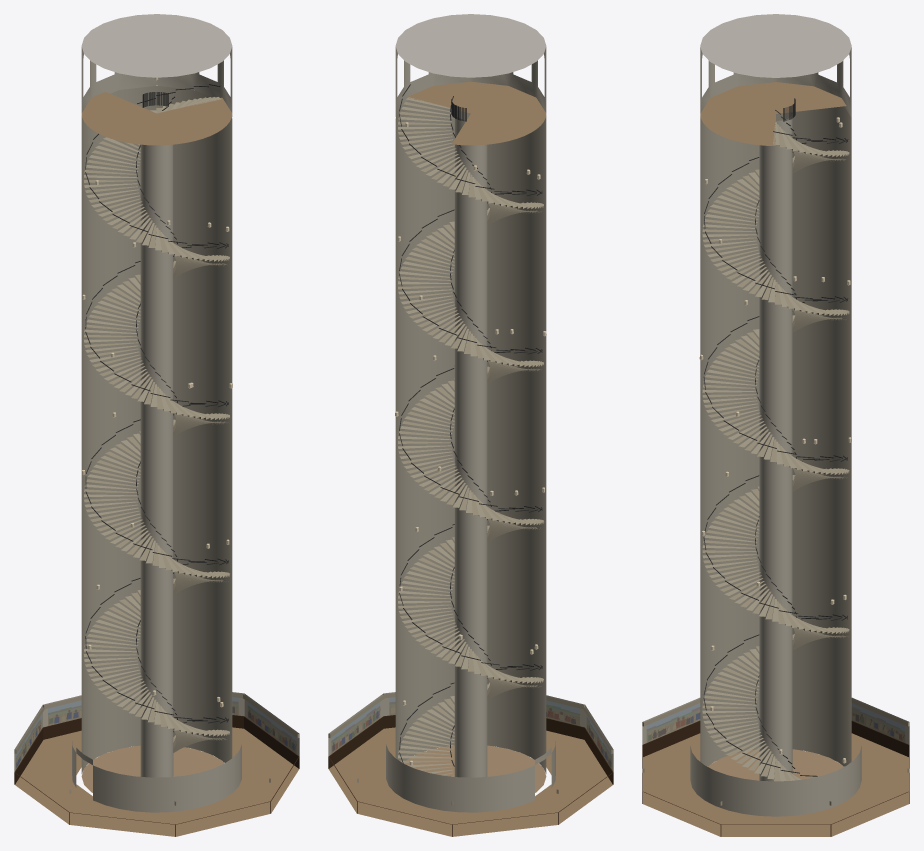
File: coit_int.glb
3 views of the same model, side by side, from view 1: azimuth 30°, elevation 25°; view 2: azimuth 150°, elevation 25°; view 3: azimuth 270°, elevation 25° (orthographic).
Visible parts, largest first — view 1: I_x_plaster, I_concrete, I_tiles, I_metal, I_x_veneer; view 2: I_x_plaster, I_concrete, I_tiles, I_metal, I_x_veneer; view 3: I_x_plaster, I_concrete, I_tiles, I_metal, I_x_veneer.
Boxes of the visible parts, box(x1,y1,x2,y2) form: I_x_plaster: box(14, 14, 299, 812); I_concrete: box(84, 97, 230, 777); I_tiles: box(15, 92, 299, 836); I_metal: box(85, 84, 228, 731); I_x_veneer: box(14, 715, 299, 836); I_x_plaster: box(328, 14, 613, 812); I_concrete: box(398, 97, 544, 777); I_tiles: box(328, 81, 612, 836); I_metal: box(399, 84, 542, 766); I_x_veneer: box(328, 715, 613, 836); I_x_plaster: box(642, 14, 909, 816); I_concrete: box(702, 114, 849, 781); I_tiles: box(643, 82, 908, 836); I_metal: box(703, 98, 848, 776); I_x_veneer: box(642, 720, 909, 836).
Size of the model in its own units: 17.8 by 54.34 by 17.8.
